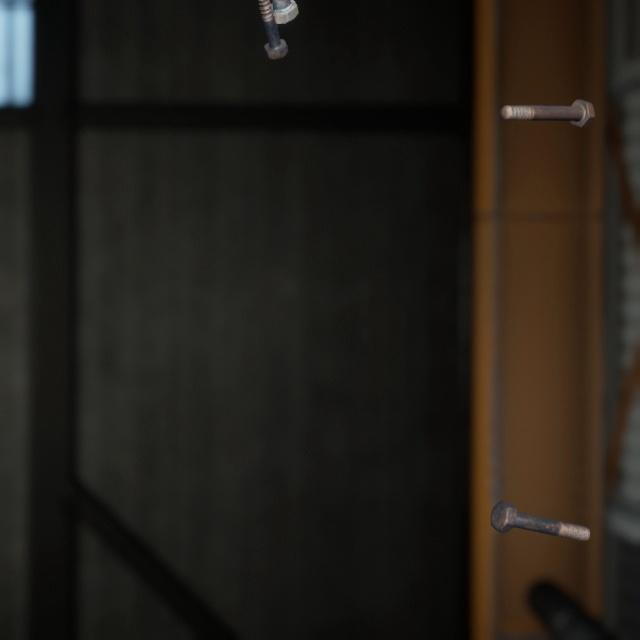bolt: (486, 474, 594, 524), (495, 83, 599, 120), (255, 0, 292, 55), (266, 0, 303, 24)
